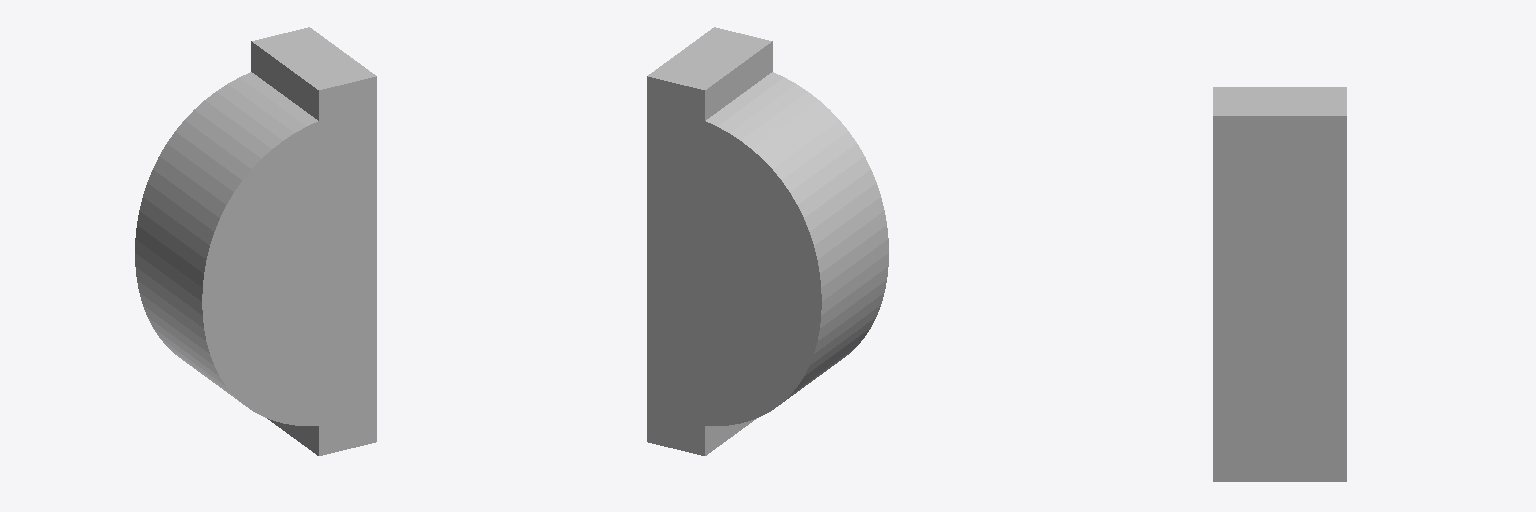
Rendered from IRIDIAepuck3D_Nov2019_CenterLED.obj.
The picture shows the model from 3 angles: view 1: azimuth 30°, elevation 25°; view 2: azimuth 150°, elevation 25°; view 3: azimuth 270°, elevation 25°; orthographic projection.
Visible parts, largest first — view 1: object_1; view 2: object_1; view 3: object_1.
Part boxes in pixels (x1,y1,x2,y2): object_1: (135,27,376,455); object_1: (647,27,888,455); object_1: (1213,87,1346,481).
Size of the model in its own units: 0.0025 by 0.005 by 0.0017.